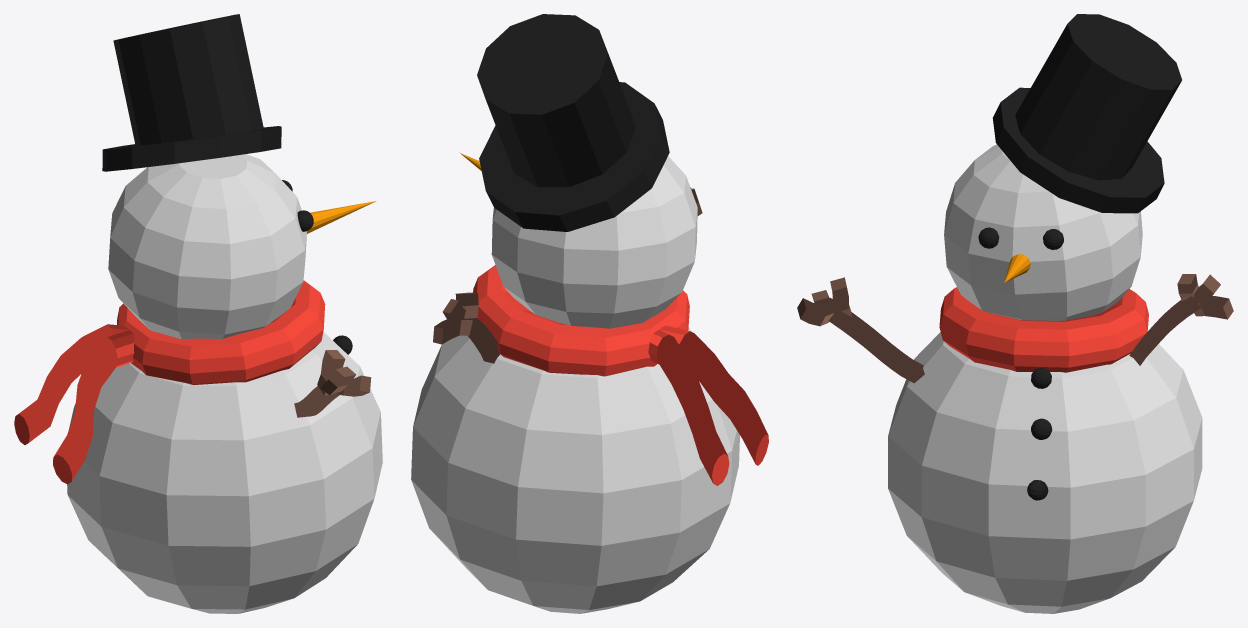
Rendered from Snow Man.glb.
3 views of the same model, side by side, from view 1: azimuth 30°, elevation 25°; view 2: azimuth 150°, elevation 25°; view 3: azimuth 270°, elevation 25° (orthographic). The views are drawn at different scales.
Parts seen in each view (by area): view 1: Node; view 2: Node; view 3: Node.
Boxes of the visible parts, x1,y1,x2,y2 form: Node: (14, 14, 382, 613); Node: (411, 14, 768, 613); Node: (797, 14, 1233, 613).
Bounding box in the file's own units: 0.3353 × 0.5837 × 0.4051.
